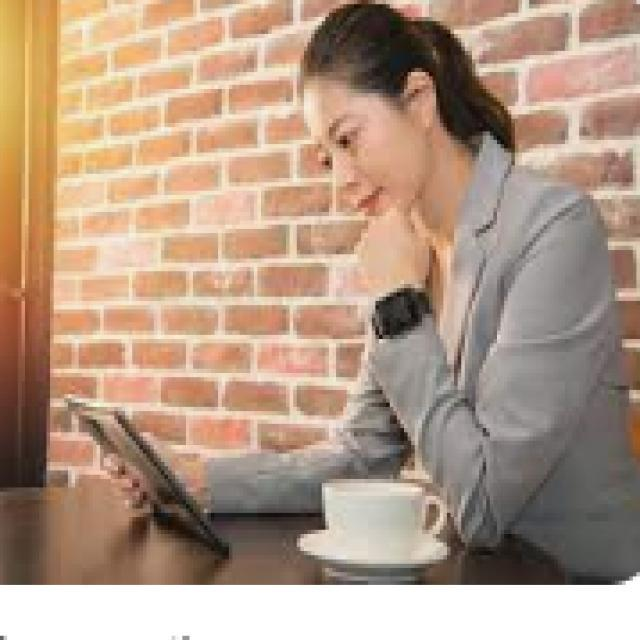Watch: (366, 282, 436, 342)
